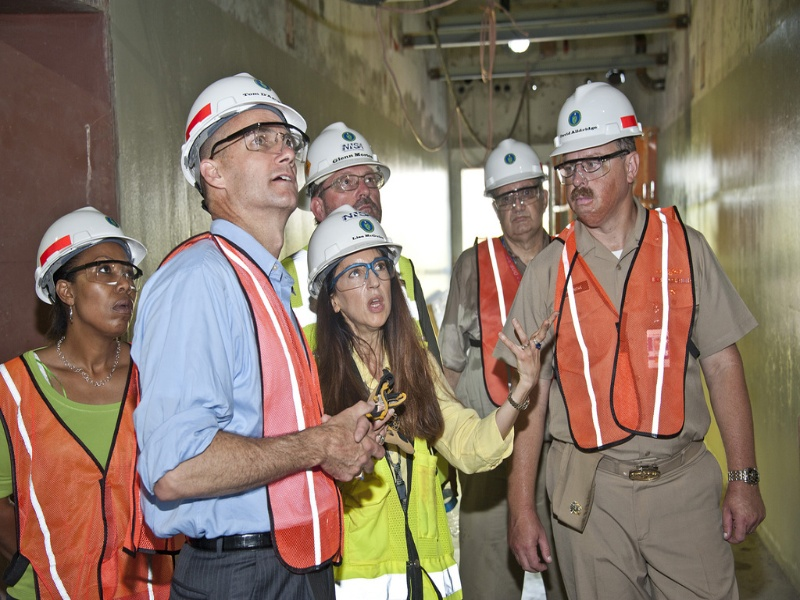Baret: (32, 207, 151, 265), (554, 80, 645, 151), (183, 72, 307, 124), (309, 204, 405, 262), (301, 121, 393, 170), (484, 137, 541, 184)
Gozluk: (195, 119, 315, 156), (553, 150, 648, 177), (59, 261, 150, 284), (324, 255, 394, 284), (488, 182, 548, 205)
